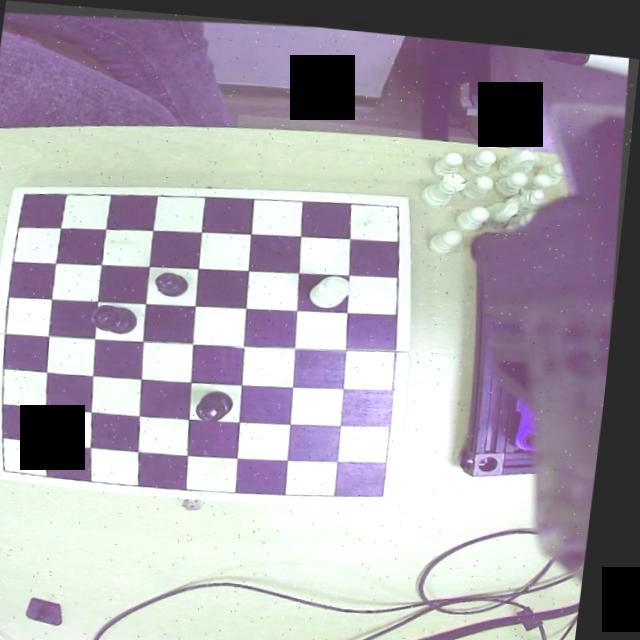chess-table-corners: (376, 472, 404, 496), (389, 189, 414, 212), (16, 184, 46, 202), (2, 454, 26, 474)
